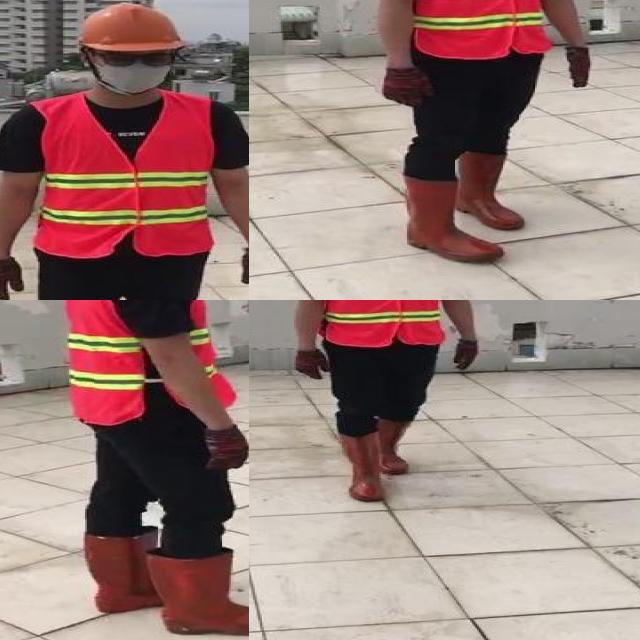boots: (145, 546, 249, 635), (402, 172, 501, 263), (78, 532, 176, 612), (457, 152, 526, 228), (341, 433, 386, 502), (383, 420, 418, 475)
face_mask: (88, 46, 180, 96)
glasses: (94, 46, 185, 74)
hand_glove: (380, 66, 436, 106), (198, 429, 249, 470), (564, 46, 590, 91), (292, 349, 330, 379), (0, 258, 25, 299), (452, 340, 476, 372), (239, 249, 249, 296)
head_helmet: (65, 0, 193, 54)
person: (0, 0, 249, 300), (57, 300, 249, 640), (360, 0, 598, 273), (283, 300, 491, 513)
vest: (38, 94, 211, 258), (67, 300, 230, 422), (410, 0, 551, 58), (324, 300, 445, 346)
